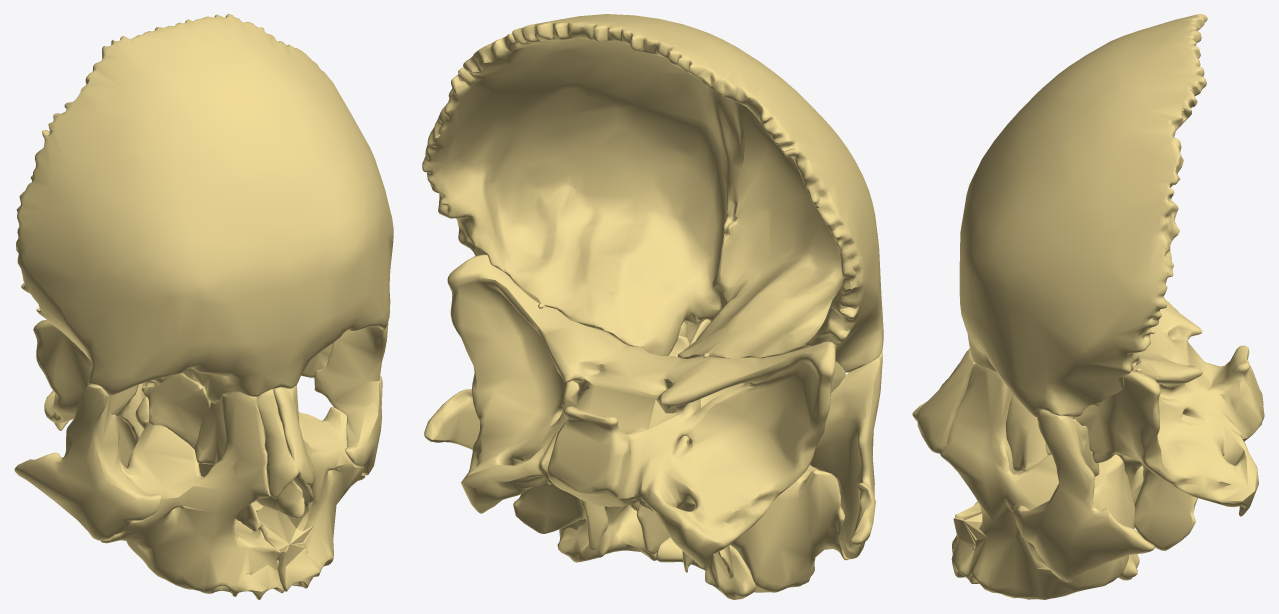
The picture shows the model from 3 angles, left to right: view 1: azimuth 30°, elevation 25°; view 2: azimuth 150°, elevation 25°; view 3: azimuth 270°, elevation 25°; orthographic projection. The views are drawn at different scales.
Parts seen in each view (by area): view 1: head-neck:frontal-bone:isa:FJ3200, head-neck:maxilla:isa:FJ3375, head-neck:zygomatic-bone:isa:FJ3392, head-neck:maxilla:isa:FJ3269, head-neck:zygomatic-bone:isa:FJ3287, head-neck:sphenoid-bone:isa:FJ3394, head-neck:ethmoid:isa:FJ3199, head-neck:nasal-bone:isa:FJ3378, head-neck:nasal-bone:isa:FJ3272, head-neck:lacrimal-bone:isa:FJ3371, head-neck:inferior-nasal-concha:isa:FJ3263, head-neck:vomer:isa:FJ3395; view 2: head-neck:frontal-bone:isa:FJ3200, head-neck:sphenoid-bone:isa:FJ3394, head-neck:maxilla:isa:FJ3375, head-neck:zygomatic-bone:isa:FJ3392, head-neck:palatine-bone:isa:FJ3273, head-neck:zygomatic-bone:isa:FJ3287, head-neck:palatine-bone:isa:FJ3379, head-neck:vomer:isa:FJ3395, head-neck:ethmoid:isa:FJ3199; view 3: head-neck:frontal-bone:isa:FJ3200, head-neck:sphenoid-bone:isa:FJ3394, head-neck:maxilla:isa:FJ3269, head-neck:zygomatic-bone:isa:FJ3287, head-neck:nasal-bone:isa:FJ3272, head-neck:lacrimal-bone:isa:FJ3265, head-neck:palatine-bone:isa:FJ3273.
Part boxes in pixels (x1=…): head-neck:frontal-bone:isa:FJ3200: x1=16, y1=14, x2=393, y2=403; head-neck:maxilla:isa:FJ3375: x1=101, y1=392, x2=283, y2=599; head-neck:zygomatic-bone:isa:FJ3392: x1=14, y1=384, x2=161, y2=540; head-neck:maxilla:isa:FJ3269: x1=236, y1=384, x2=364, y2=591; head-neck:zygomatic-bone:isa:FJ3287: x1=314, y1=322, x2=388, y2=475; head-neck:sphenoid-bone:isa:FJ3394: x1=33, y1=319, x2=348, y2=468; head-neck:ethmoid:isa:FJ3199: x1=142, y1=373, x2=210, y2=449; head-neck:nasal-bone:isa:FJ3378: x1=256, y1=389, x2=298, y2=498; head-neck:nasal-bone:isa:FJ3272: x1=273, y1=387, x2=313, y2=485; head-neck:lacrimal-bone:isa:FJ3371: x1=194, y1=400, x2=226, y2=464; head-neck:inferior-nasal-concha:isa:FJ3263: x1=256, y1=480, x2=304, y2=518; head-neck:vomer:isa:FJ3395: x1=199, y1=463, x2=261, y2=531; head-neck:frontal-bone:isa:FJ3200: x1=422, y1=14, x2=883, y2=372; head-neck:sphenoid-bone:isa:FJ3394: x1=447, y1=254, x2=845, y2=578; head-neck:maxilla:isa:FJ3375: x1=729, y1=465, x2=848, y2=592; head-neck:zygomatic-bone:isa:FJ3392: x1=810, y1=351, x2=882, y2=559; head-neck:palatine-bone:isa:FJ3273: x1=557, y1=505, x2=656, y2=562; head-neck:zygomatic-bone:isa:FJ3287: x1=424, y1=389, x2=521, y2=465; head-neck:palatine-bone:isa:FJ3379: x1=656, y1=537, x2=755, y2=599; head-neck:vomer:isa:FJ3395: x1=630, y1=502, x2=669, y2=554; head-neck:ethmoid:isa:FJ3199: x1=668, y1=319, x2=744, y2=407; head-neck:frontal-bone:isa:FJ3200: x1=959, y1=14, x2=1207, y2=417; head-neck:sphenoid-bone:isa:FJ3394: x1=1073, y1=298, x2=1264, y2=550; head-neck:maxilla:isa:FJ3269: x1=940, y1=365, x2=1135, y2=599; head-neck:zygomatic-bone:isa:FJ3287: x1=1015, y1=410, x2=1154, y2=582; head-neck:nasal-bone:isa:FJ3272: x1=917, y1=348, x2=976, y2=453; head-neck:lacrimal-bone:isa:FJ3265: x1=1006, y1=394, x2=1048, y2=471; head-neck:palatine-bone:isa:FJ3273: x1=1118, y1=455, x2=1143, y2=580.
Size of the model in its own units: 0.1278 by 0.166 by 0.1004.
